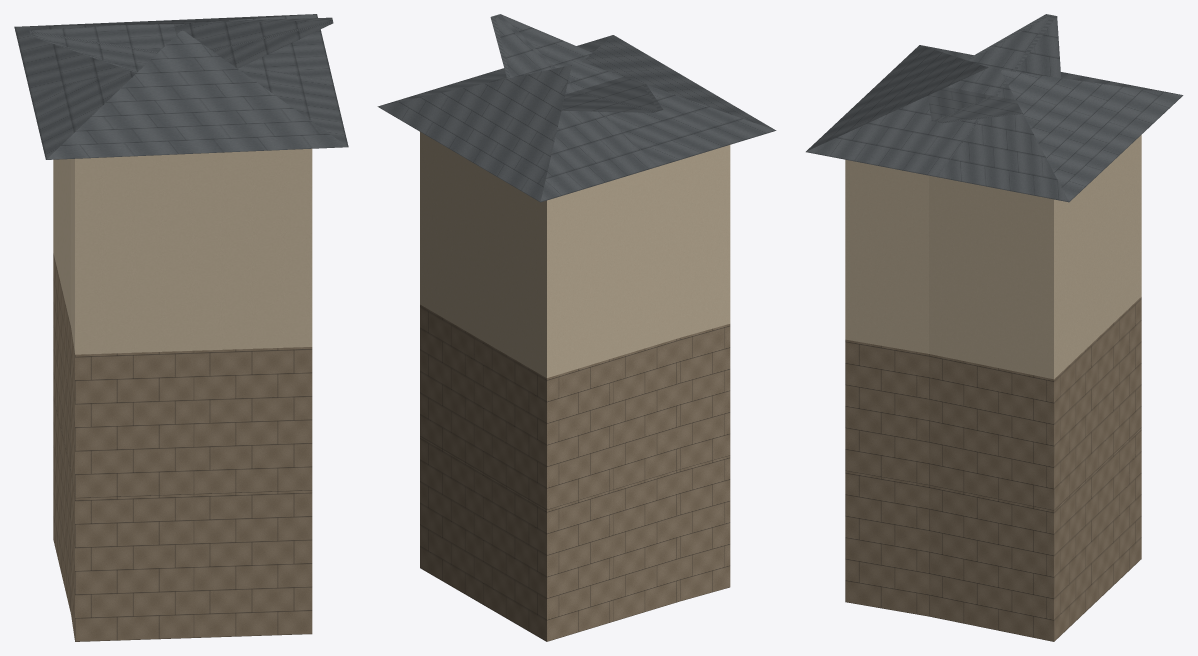
File: bld_c4_19_454.gltf
3 views of the same model, side by side, from view 1: azimuth 30°, elevation 25°; view 2: azimuth 150°, elevation 25°; view 3: azimuth 270°, elevation 25° (orthographic). The views are drawn at different scales.
Parts seen in each view (by area): view 1: bld_c4_19_454; view 2: bld_c4_19_454; view 3: bld_c4_19_454.
Boxes of the visible parts, left/top/right/bottom form: bld_c4_19_454: left=14, top=14, right=348, bottom=641; bld_c4_19_454: left=377, top=14, right=776, bottom=641; bld_c4_19_454: left=806, top=14, right=1183, bottom=641.
Size of the model in its own units: 6.14 by 9.3 by 6.23.
3 materials, 3 textured.
